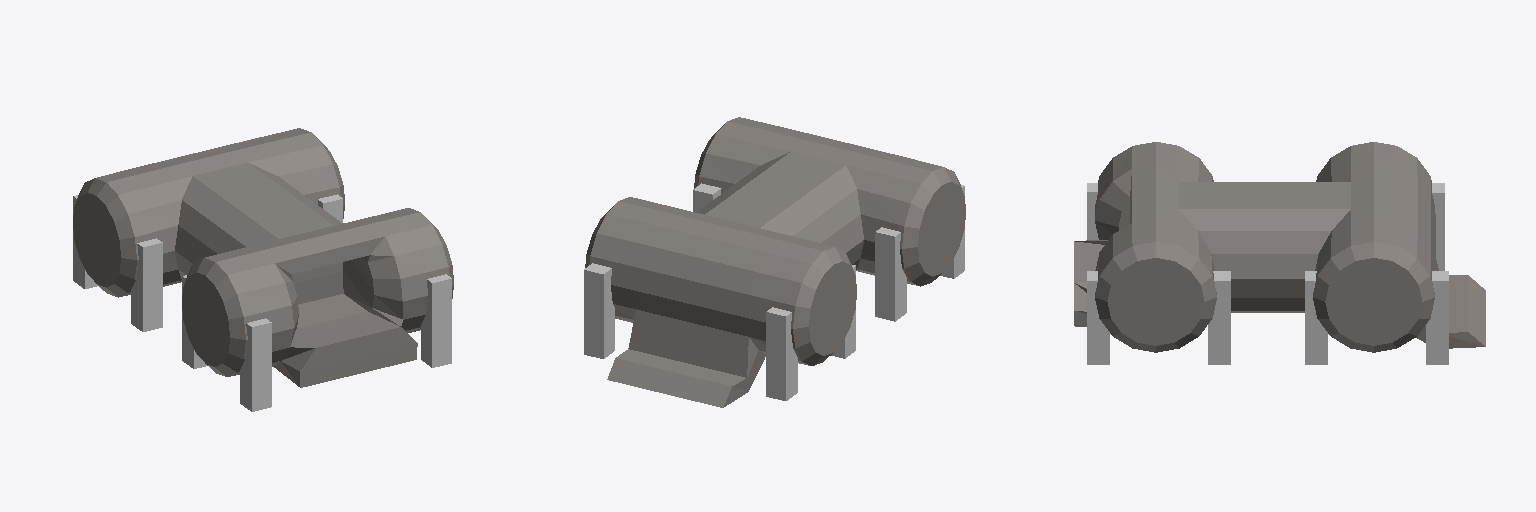
Rendered from regol.obj.
3 views of the same model, side by side, from view 1: azimuth 30°, elevation 25°; view 2: azimuth 150°, elevation 25°; view 3: azimuth 270°, elevation 25° (orthographic).
Visible parts, largest first — view 1: Cylinder.078; view 2: Cylinder.078; view 3: Cylinder.078.
Boxes of the visible parts, x1,y1,x2,y2 form: Cylinder.078: [73, 128, 453, 411]; Cylinder.078: [584, 117, 965, 407]; Cylinder.078: [1074, 142, 1485, 364].
Bounding box in the file's own units: 5.52 × 3.04 × 8.78.